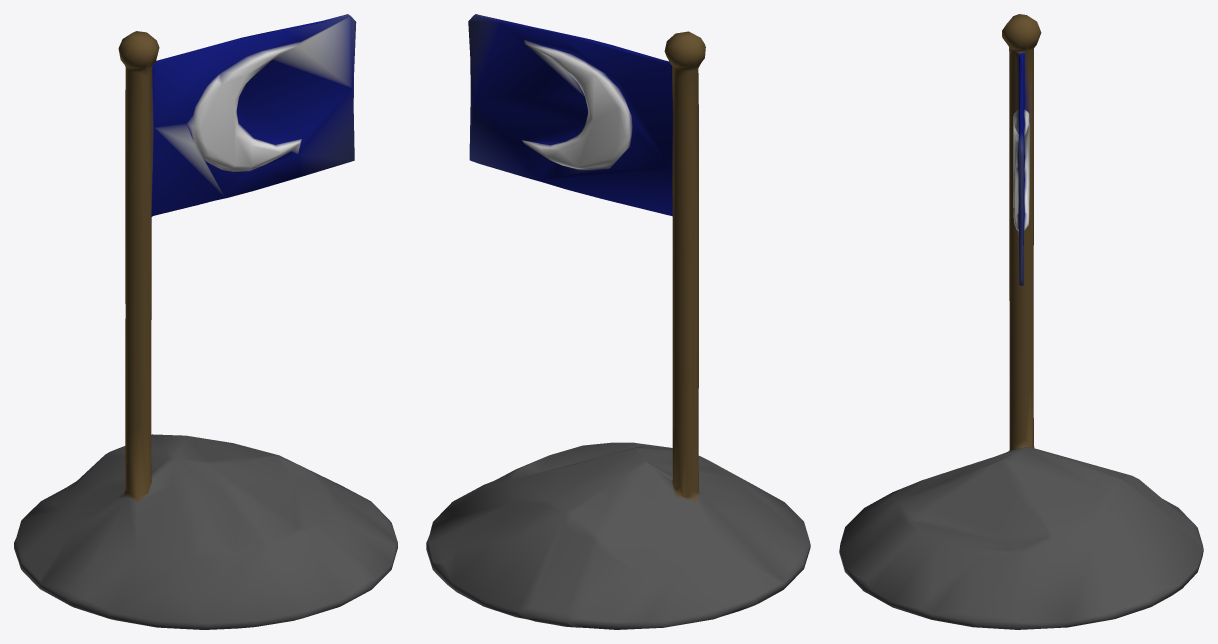
Rendered from gen3d-moon-flag-lod1.glb.
The picture shows the model from 3 angles, left to right: view 1: azimuth 30°, elevation 25°; view 2: azimuth 150°, elevation 25°; view 3: azimuth 270°, elevation 25°; orthographic projection. The views are drawn at different scales.
Visible parts, largest first — view 1: part_0; view 2: part_0; view 3: part_0.
Boxes of the visible parts, x1,y1,x2,y2 form: part_0: [14, 14, 397, 629]; part_0: [426, 14, 810, 629]; part_0: [839, 14, 1203, 629].
Bounding box in the file's own units: 0.6518 × 0.9979 × 0.6521.
